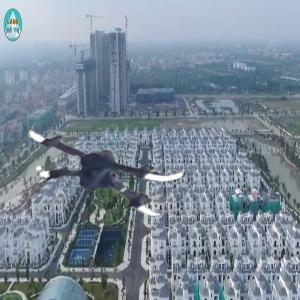drone: (30, 79, 189, 238)
